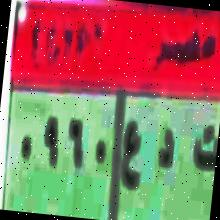0: (17, 124, 38, 172), (91, 130, 111, 176)
6: (62, 114, 87, 176)
9: (40, 113, 62, 173)
ain: (118, 115, 145, 192)
daal: (152, 120, 178, 174)
taa: (187, 116, 220, 176)
